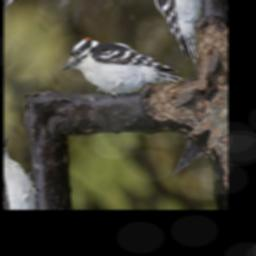Woodpecker: (56, 4, 186, 142)
